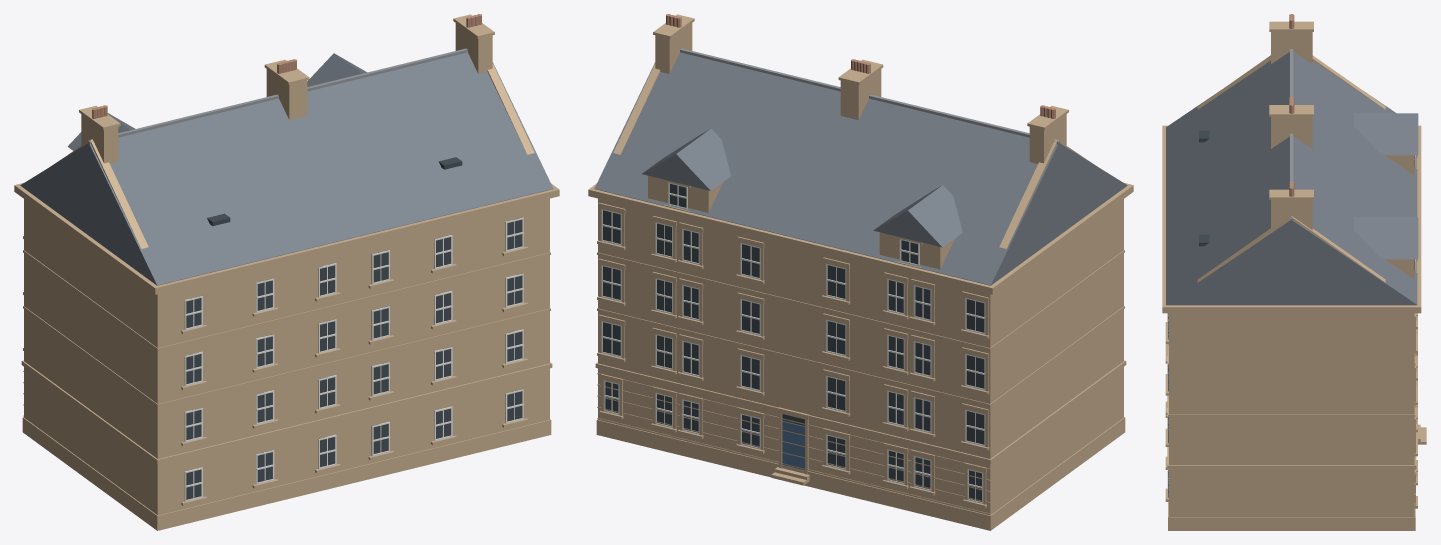
File: tenement4_b.glb
3 views of the same model, side by side, from view 1: azimuth 30°, elevation 25°; view 2: azimuth 150°, elevation 25°; view 3: azimuth 270°, elevation 25° (orthographic). The views are drawn at different scales.
Parts seen in each view (by area): view 1: tenement4_b; view 2: tenement4_b; view 3: tenement4_b.
Part boxes in pixels (bbox=[...]): tenement4_b: bbox=[14, 14, 559, 530]; tenement4_b: bbox=[588, 14, 1133, 530]; tenement4_b: bbox=[1162, 14, 1426, 530].
Size of the model in its own units: 22.7 by 19.92 by 13.99.
